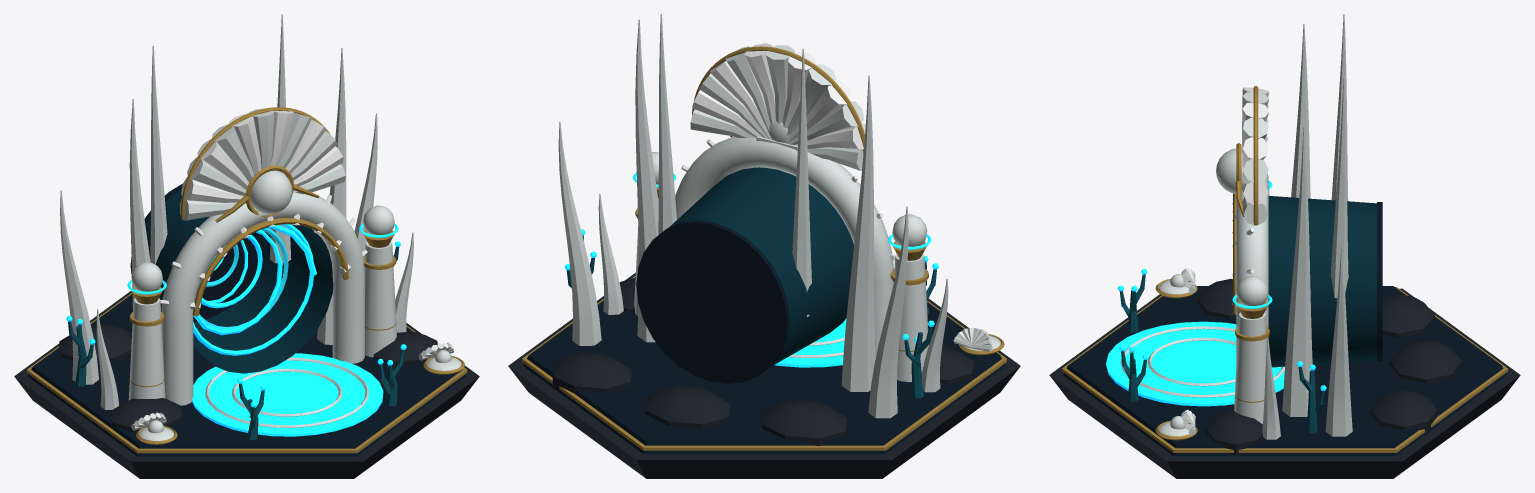
Rendered from poseidon_tutor_structure_1.glb.
3 views of the same model, side by side, from view 1: azimuth 30°, elevation 25°; view 2: azimuth 150°, elevation 25°; view 3: azimuth 270°, elevation 25° (orthographic). The views are drawn at different scales.
Visible parts, largest first — view 1: poseidon_tutor_structure_1; view 2: poseidon_tutor_structure_1; view 3: poseidon_tutor_structure_1.
Boxes of the visible parts, x1,y1,x2,y2 form: poseidon_tutor_structure_1: [14, 14, 479, 478]; poseidon_tutor_structure_1: [508, 14, 1020, 478]; poseidon_tutor_structure_1: [1049, 14, 1520, 478].
Size of the model in its own units: 1.51 by 1.44 by 1.74.
1 material, 1 textured.
